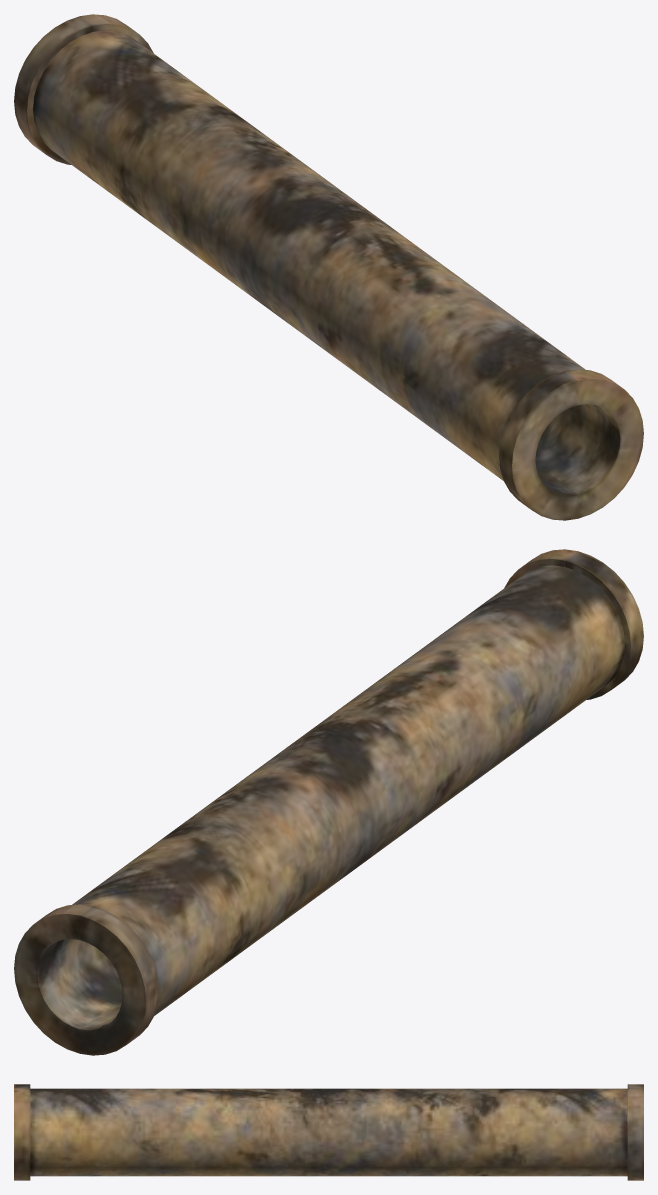
The model's file is pipe-straight-long.glb.
3 views of the same model, one above another, from view 1: azimuth 30°, elevation 25°; view 2: azimuth 150°, elevation 25°; view 3: azimuth 270°, elevation 25° (orthographic). The views are drawn at different scales.
Visible parts, largest first — view 1: pipe-straight-long; view 2: pipe-straight-long; view 3: pipe-straight-long.
Boxes of the visible parts, x1,y1,x2,y2 form: pipe-straight-long: (14,14,643,520); pipe-straight-long: (14,549,643,1055); pipe-straight-long: (14,1084,643,1180).
Size of the model in its own units: 0.2811 by 0.2811 by 1.84.
Materials: 1 (1 with a texture image).
